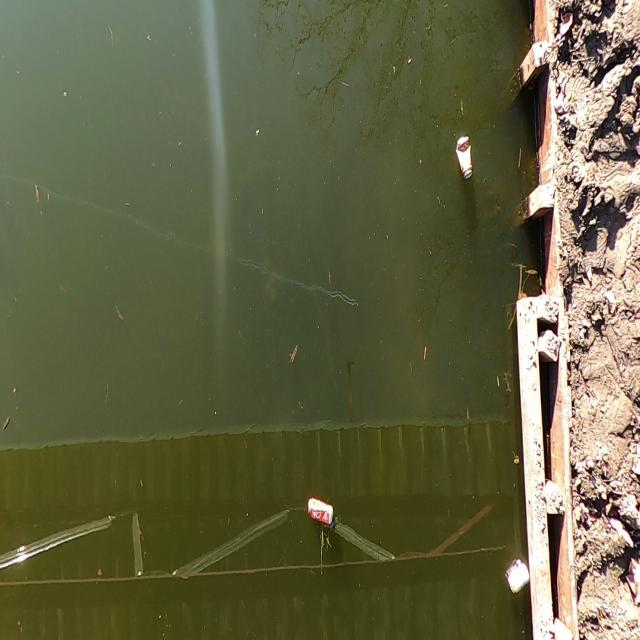Non plastique: (304, 493, 340, 538), (453, 126, 477, 184), (503, 555, 530, 599)
